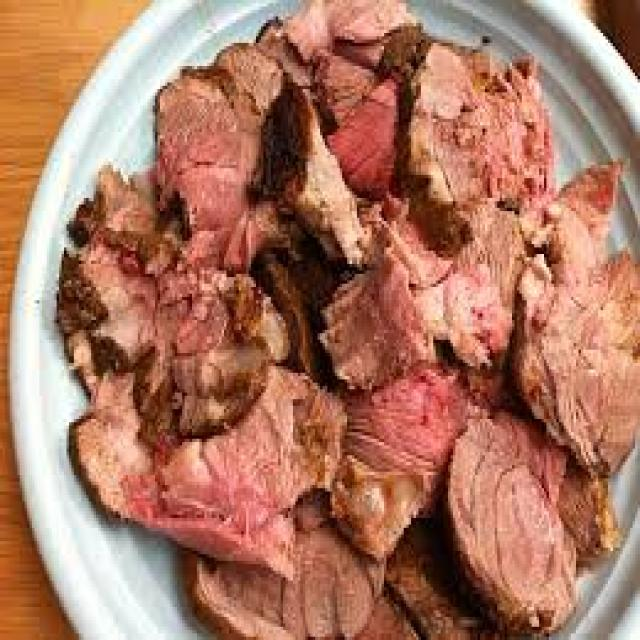Organik: (64, 0, 640, 640), (419, 418, 618, 640), (248, 80, 410, 278)
